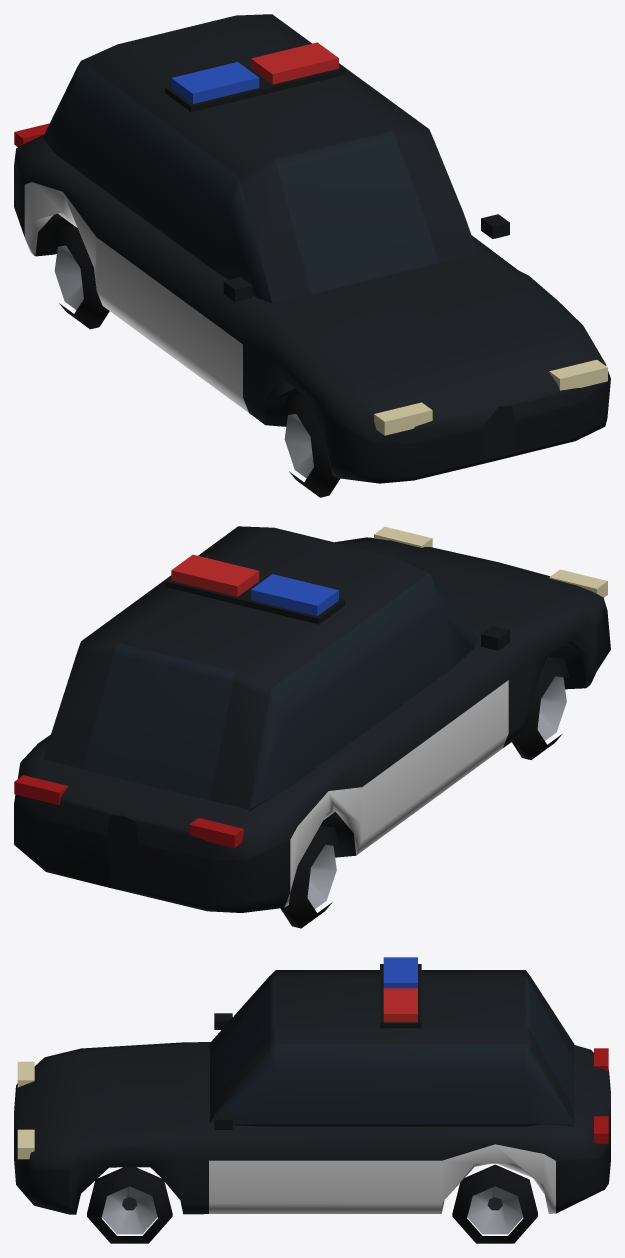
File: mobile-low.glb
3 renders of one model, top to bottom at view 1: azimuth 30°, elevation 25°; view 2: azimuth 150°, elevation 25°; view 3: azimuth 270°, elevation 25°, orthographic. The views are drawn at different scales.
Visible parts, largest first — view 1: body, sirens, tyre_rr, tyre_fr, light_head_r, rim_rr, rim_fr, light_head_l; view 2: body, sirens, tyre_rr, tyre_fr, rim_fr, rim_rr, light_brake_r, light_brake_l, light_head_r, light_head_l; view 3: body, tyre_rl, tyre_fl, sirens, rim_fl, rim_rl, light_head_l, light_head_r, light_brake_l.
Boxes of the visible parts, x1,y1,x2,y2 form: body: [14, 14, 610, 483]; sirens: [171, 42, 338, 103]; tyre_rr: [52, 225, 109, 329]; tyre_fr: [282, 394, 340, 497]; light_head_r: [374, 402, 432, 435]; rim_rr: [54, 245, 83, 309]; rim_fr: [284, 414, 313, 478]; light_head_l: [549, 359, 607, 390]; body: [14, 526, 610, 912]; sirens: [171, 554, 338, 616]; tyre_rr: [280, 825, 339, 928]; tyre_fr: [512, 656, 569, 759]; rim_fr: [537, 676, 566, 740]; rim_rr: [307, 844, 336, 908]; light_brake_r: [189, 818, 243, 847]; light_brake_l: [14, 775, 68, 805]; light_head_r: [549, 569, 607, 597]; light_head_l: [374, 526, 432, 547]; body: [14, 964, 610, 1214]; tyre_rl: [452, 1164, 537, 1243]; tyre_fl: [87, 1167, 172, 1243]; sirens: [383, 957, 417, 1022]; rim_fl: [102, 1186, 157, 1234]; rim_rl: [467, 1186, 522, 1234]; light_head_l: [17, 1129, 34, 1159]; light_head_r: [17, 1061, 34, 1087]; light_brake_l: [594, 1116, 608, 1143].
Size of what is drawn, in the model's own units: 2.07 by 1.92 by 4.9.
